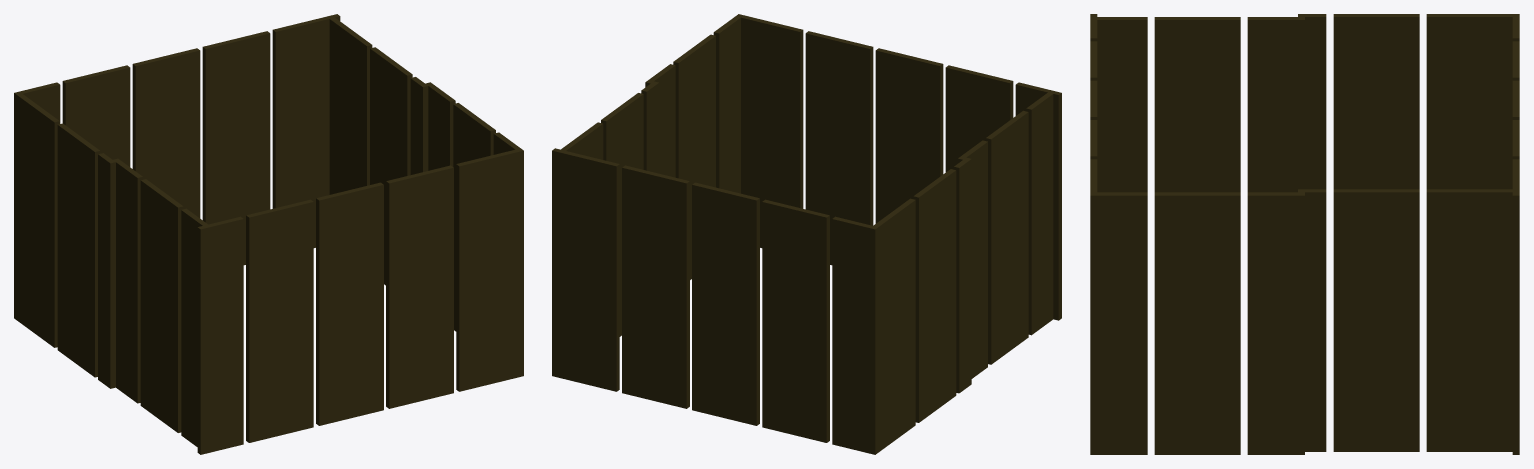
The model's file is BuildBegin.obj.
The picture shows the model from 3 angles, left to right: view 1: azimuth 30°, elevation 25°; view 2: azimuth 150°, elevation 25°; view 3: azimuth 270°, elevation 25°; orthographic projection. The views are drawn at different scales.
Size of the model in its own units: 6 by 4 by 6.
